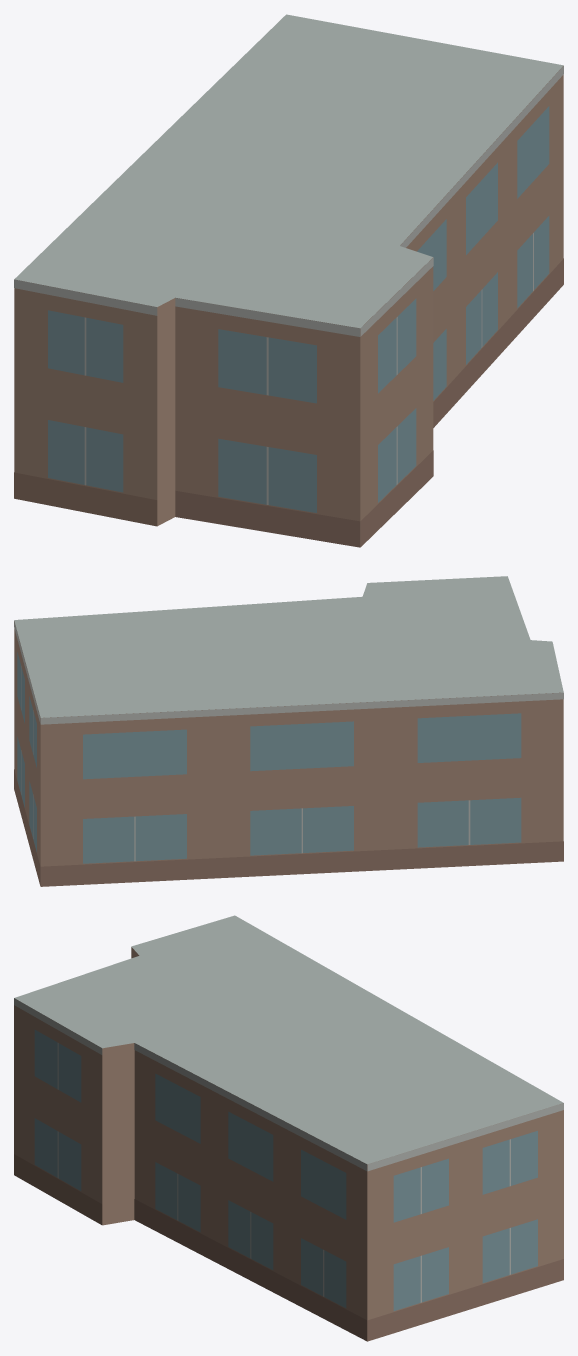
The model's file is survey-upis-32643462.glb.
The picture shows the model from 3 angles, top to bottom: view 1: azimuth 30°, elevation 25°; view 2: azimuth 150°, elevation 25°; view 3: azimuth 270°, elevation 25°; orthographic projection. The views are drawn at different scales.
Parts seen in each view (by area): view 1: survey-upis-32643462.tmp; view 2: survey-upis-32643462.tmp; view 3: survey-upis-32643462.tmp.
Boxes of the visible parts, x1,y1,x2,y2 form: survey-upis-32643462.tmp: (14,14,563,547); survey-upis-32643462.tmp: (14,576,563,886); survey-upis-32643462.tmp: (14,915,563,1341).
Bounding box in the file's own units: 18.4 × 6.1 × 17.17.
